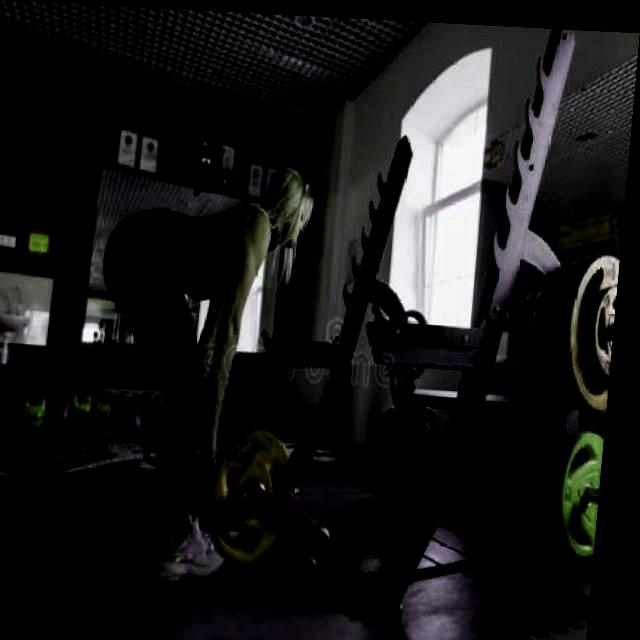barbell: (202, 422, 350, 565)
